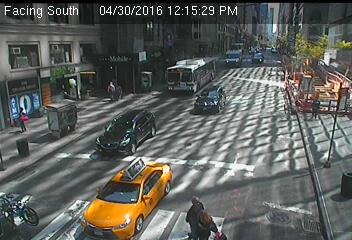neg: (224, 88, 266, 144), (187, 90, 225, 140), (110, 2, 147, 52), (257, 115, 292, 161), (44, 127, 76, 169), (23, 8, 52, 47), (118, 198, 145, 232), (64, 8, 89, 41), (100, 159, 122, 188), (89, 125, 110, 153), (59, 58, 79, 84), (187, 37, 206, 63), (252, 39, 271, 64), (167, 147, 184, 170), (173, 71, 188, 90), (134, 132, 149, 151), (143, 77, 157, 95), (186, 4, 199, 22), (234, 21, 245, 36), (226, 48, 234, 59)
pos: (11, 107, 32, 134), (103, 83, 117, 101)
